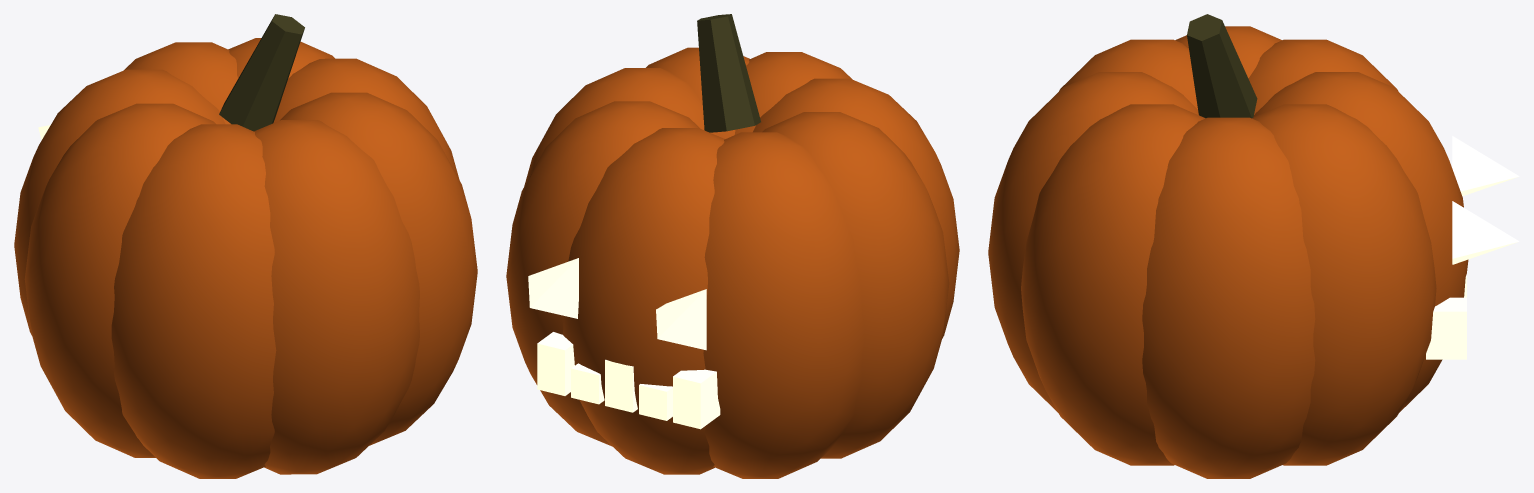
File: SM_80s_JackOLantern.glb
3 views of the same model, side by side, from view 1: azimuth 30°, elevation 25°; view 2: azimuth 150°, elevation 25°; view 3: azimuth 270°, elevation 25° (orthographic). The views are drawn at different scales.
Parts seen in each view (by area): view 1: SM_80s_JackOLantern; view 2: SM_80s_JackOLantern; view 3: SM_80s_JackOLantern.
Boxes of the visible parts, bbox=[...] form: SM_80s_JackOLantern: bbox=[14, 14, 477, 478]; SM_80s_JackOLantern: bbox=[506, 14, 959, 478]; SM_80s_JackOLantern: bbox=[988, 14, 1519, 478].
Size of the model in its own units: 0.3978 by 0.3839 by 0.4395.
